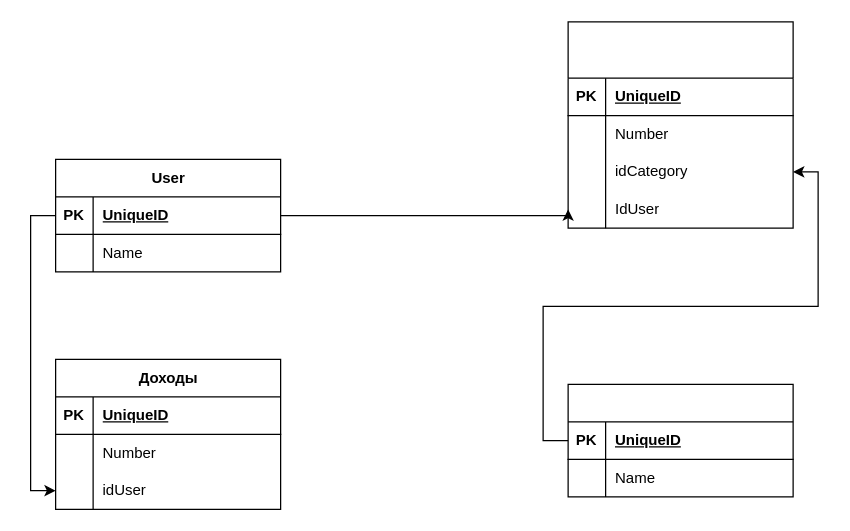
The diagram is 850 pixels wide and 531 high, and some of its shapes have lost their labels. Here are the shapes that lost their labels. From the top down, the box of each, then its label:
(567, 21, 793, 228): Расходы
(567, 383, 793, 497): Category
